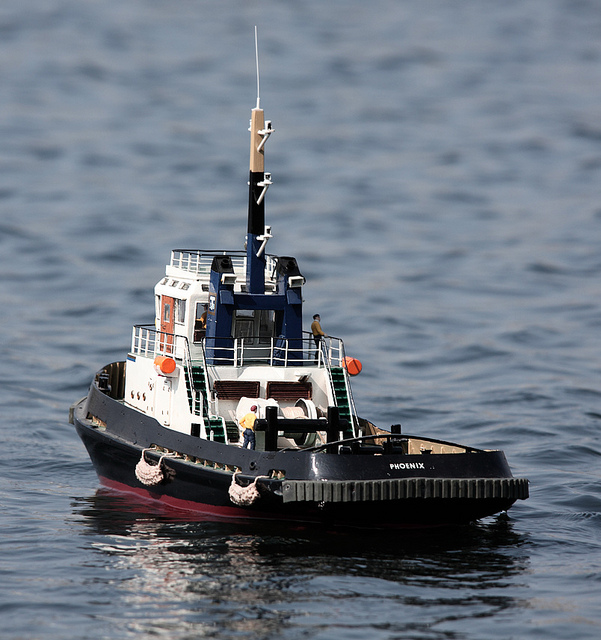tug_boat: (66, 55, 555, 528)
